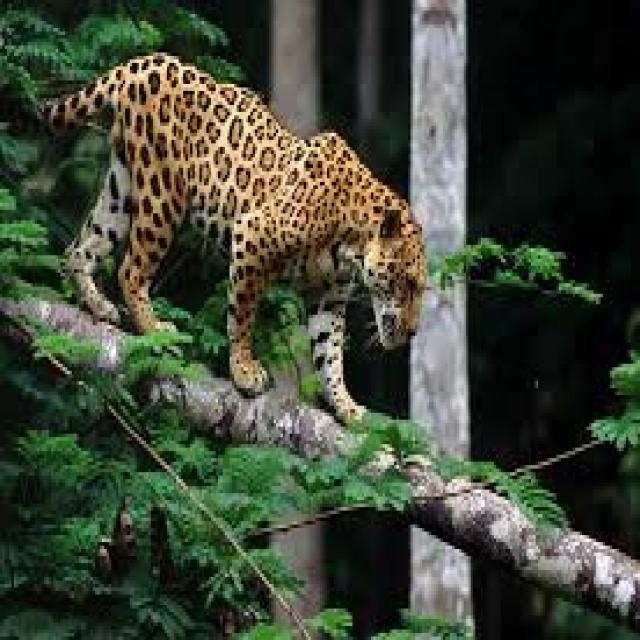Jaguar: (39, 53, 427, 430)
